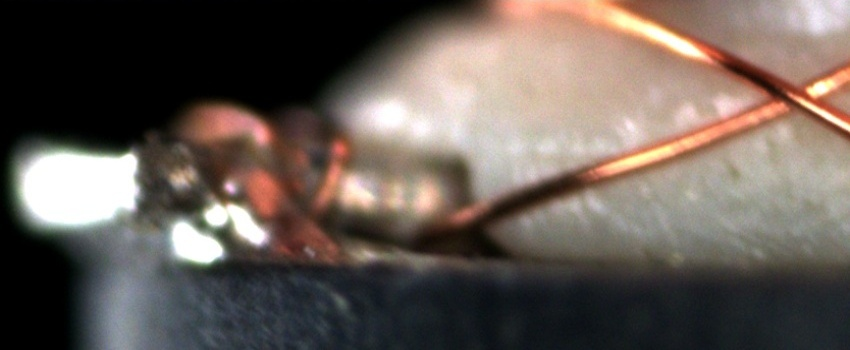CL: (746, 62, 843, 130)
TE: (181, 96, 359, 271)
